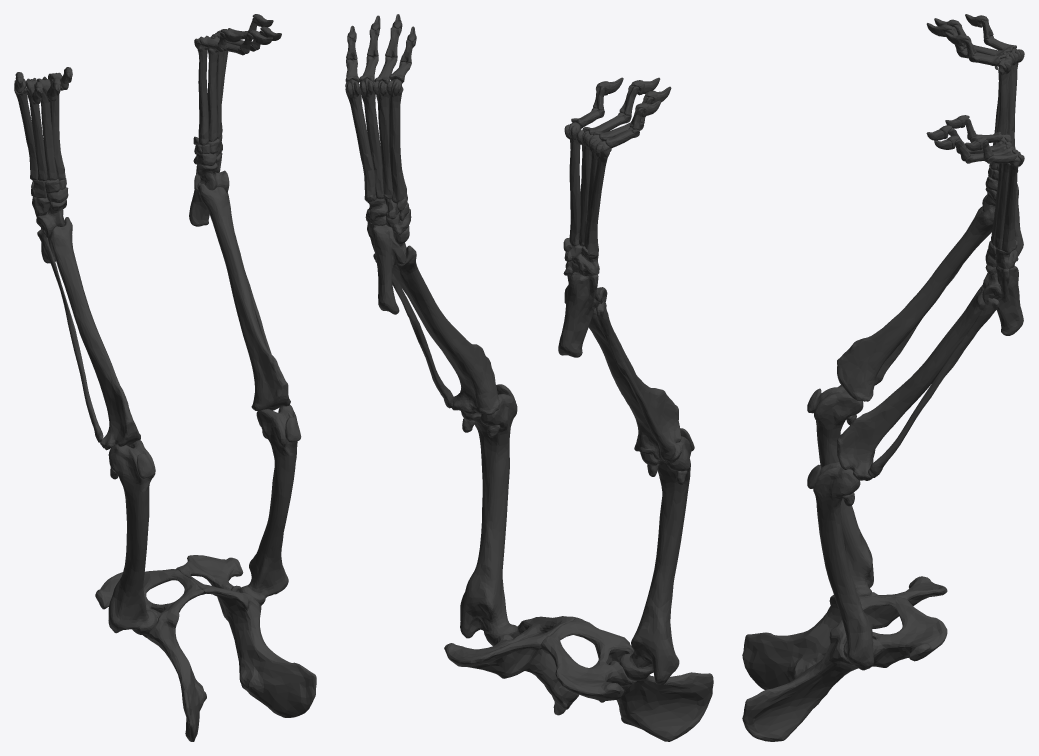
The model's file is b_hindlimb.glb.
The picture shows the model from 3 angles, left to right: view 1: azimuth 30°, elevation 25°; view 2: azimuth 150°, elevation 25°; view 3: azimuth 270°, elevation 25°; orthographic projection. The views are drawn at different scales.
Visible parts, largest first — view 1: b_hindlimb; view 2: b_hindlimb; view 3: b_hindlimb.
Boxes of the visible parts, x1,y1,x2,y2 form: b_hindlimb: (14, 14, 316, 741); b_hindlimb: (345, 14, 713, 741); b_hindlimb: (742, 14, 1024, 741).
Size of the model in its own units: 0.00733 by 0.0169 by 0.00672.
Materials: 1 (1 with a texture image).
